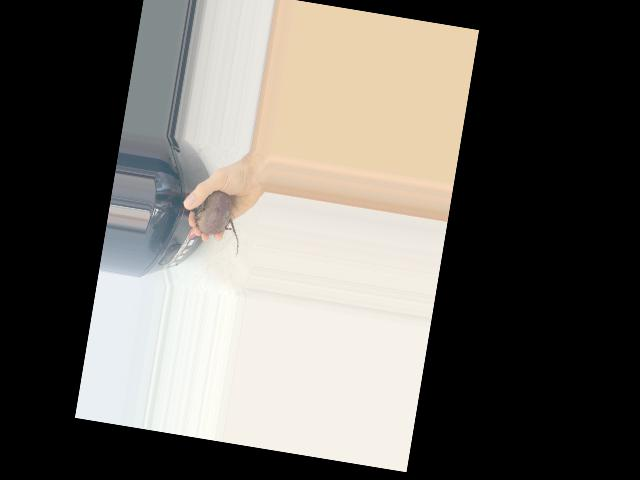beet: (184, 187, 247, 257)
